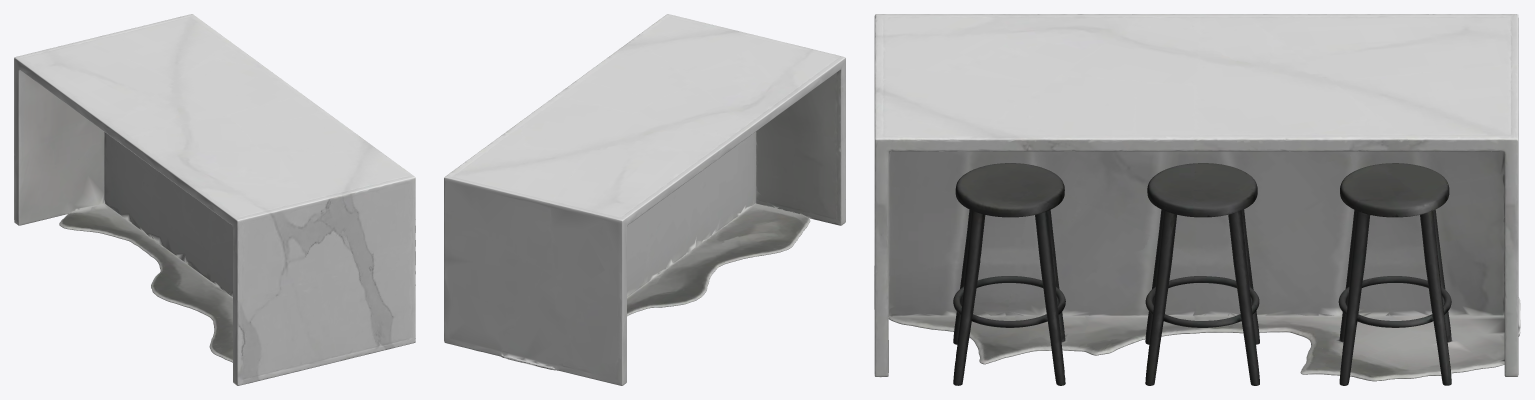
The model's file is ilot.glb.
3 views of the same model, side by side, from view 1: azimuth 30°, elevation 25°; view 2: azimuth 150°, elevation 25°; view 3: azimuth 270°, elevation 25° (orthographic). The views are drawn at different scales.
Parts seen in each view (by area): view 1: tripo_node_1f073a6d-4c6b-4ed9-9efe-54ba93d44543; view 2: tripo_node_1f073a6d-4c6b-4ed9-9efe-54ba93d44543; view 3: tripo_node_1f073a6d-4c6b-4ed9-9efe-54ba93d44543.
Boxes of the visible parts, x1,y1,x2,y2 form: tripo_node_1f073a6d-4c6b-4ed9-9efe-54ba93d44543: (14, 14, 415, 385); tripo_node_1f073a6d-4c6b-4ed9-9efe-54ba93d44543: (444, 14, 845, 385); tripo_node_1f073a6d-4c6b-4ed9-9efe-54ba93d44543: (874, 14, 1520, 385).
Bounding box in the file's own units: 0.488 × 0.4005 × 0.9814.
Materials: 1 (1 with a texture image).
